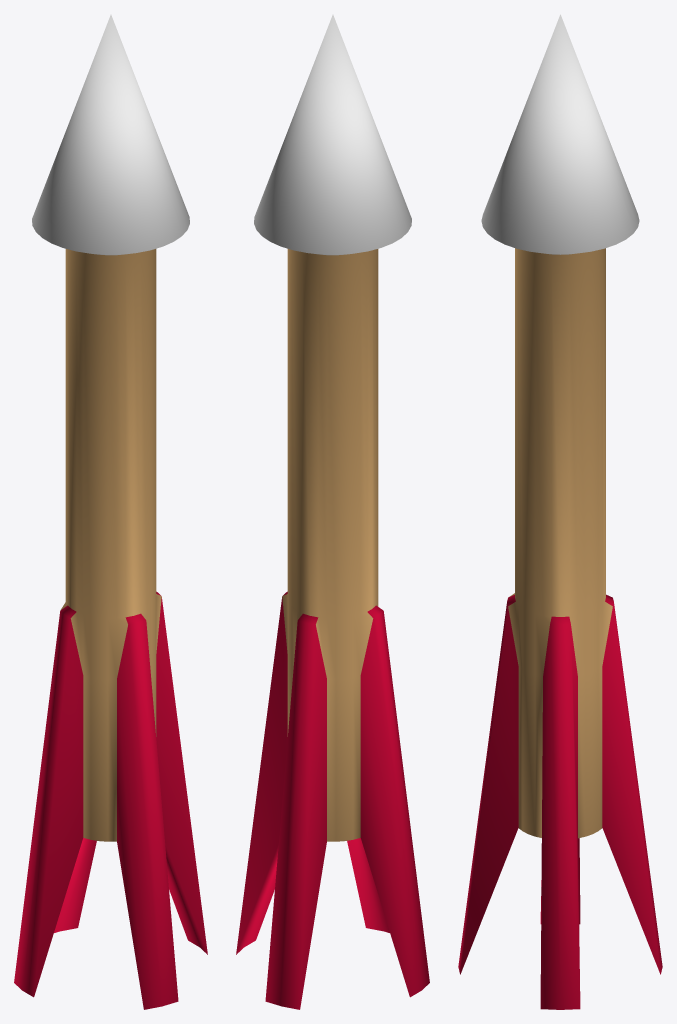
File: arrow.fbx
The picture shows the model from 3 angles, left to right: view 1: azimuth 30°, elevation 25°; view 2: azimuth 150°, elevation 25°; view 3: azimuth 270°, elevation 25°; orthographic projection.
Visible parts, largest first — view 1: Cylinder; view 2: Cylinder; view 3: Cylinder.
Boxes of the visible parts, left/top/right/bottom form: Cylinder: left=14, top=14, right=207, bottom=1009; Cylinder: left=236, top=14, right=429, bottom=1009; Cylinder: left=458, top=14, right=662, bottom=1009.
Size of the model in its own units: 94.93 by 488 by 94.93.
